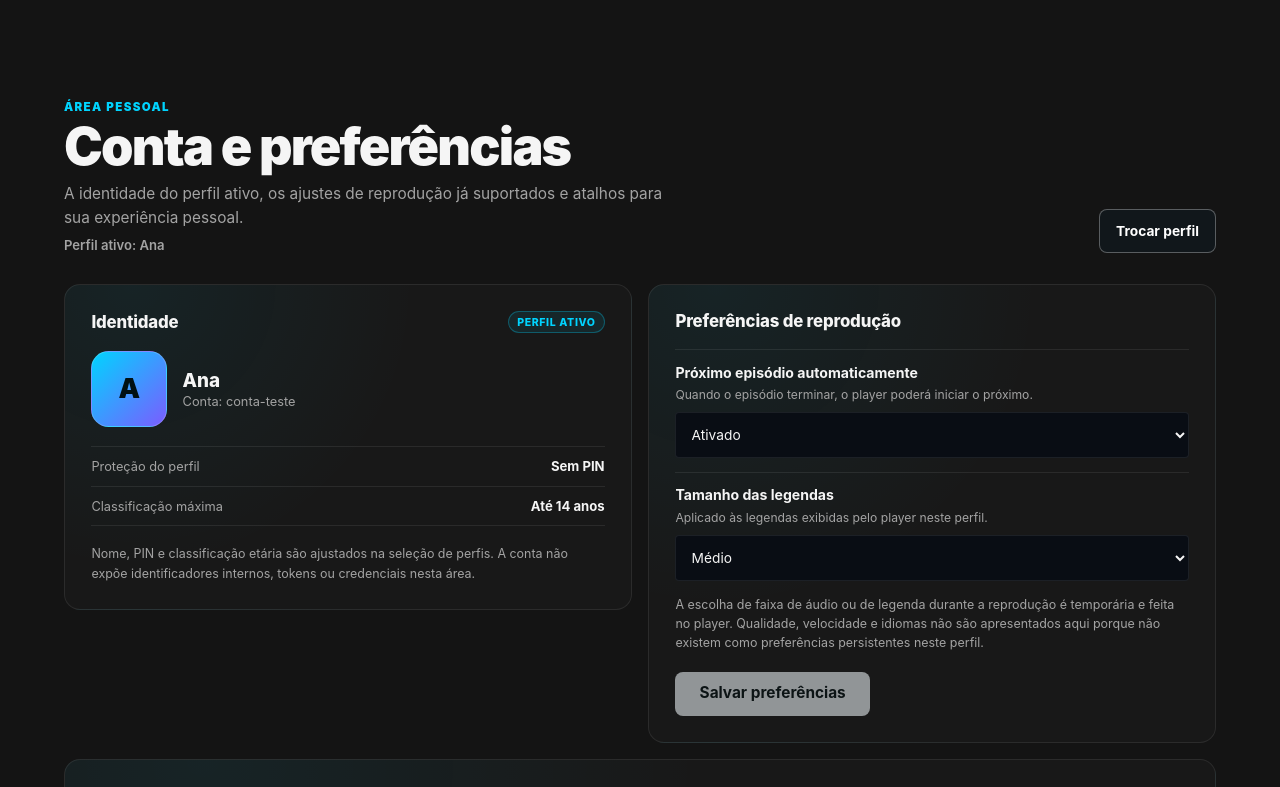
shows the real account identity and saves only the supported profile preferences
Expected: the heading "Conta e preferências" is shown, [64,115,570,178]
Expected: the text "Ana" is shown, [183,368,220,392]
Select "Desativado" in the dropdown labelled "Próximo episódio automaticamente" at (932, 435), box [675,412,1189,458]
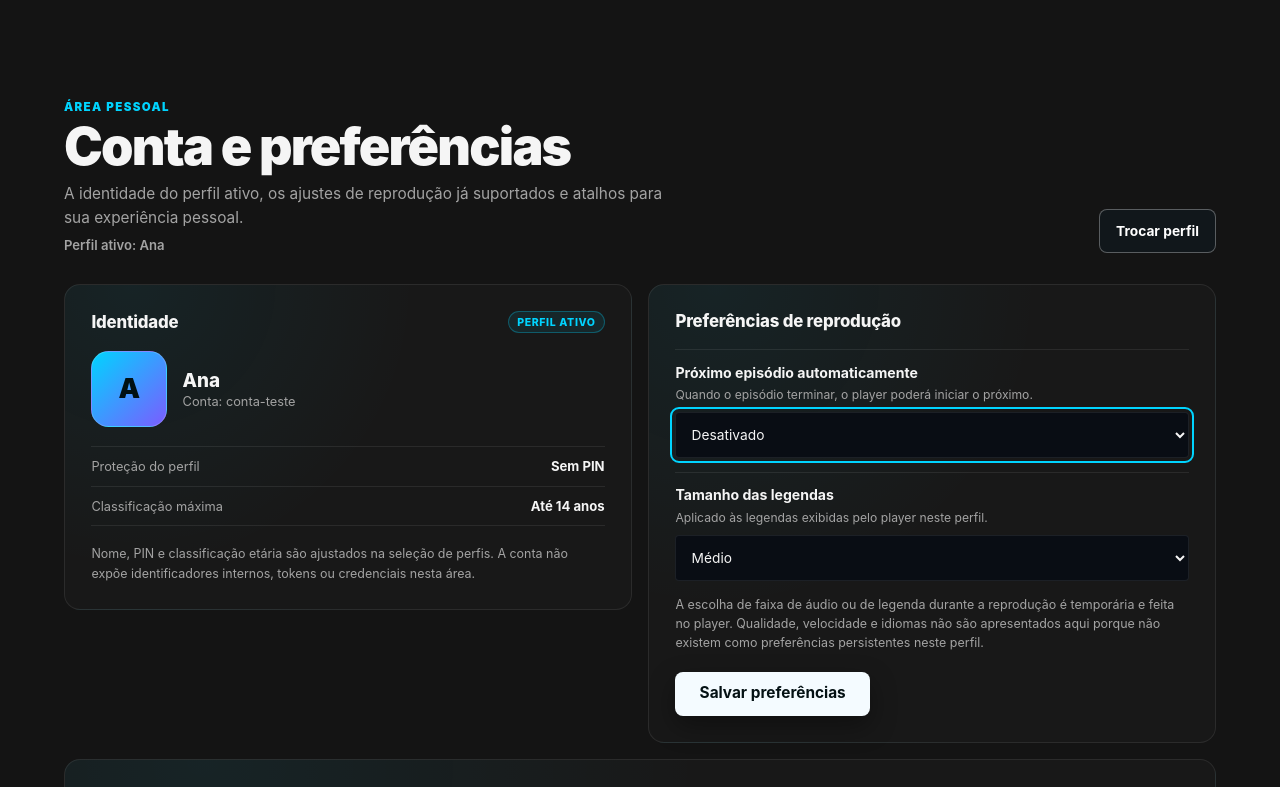
Expected: the button "Salvar preferências" is enabled
Click the button "Salvar preferências" at (773, 694), box [675,672,870,716]
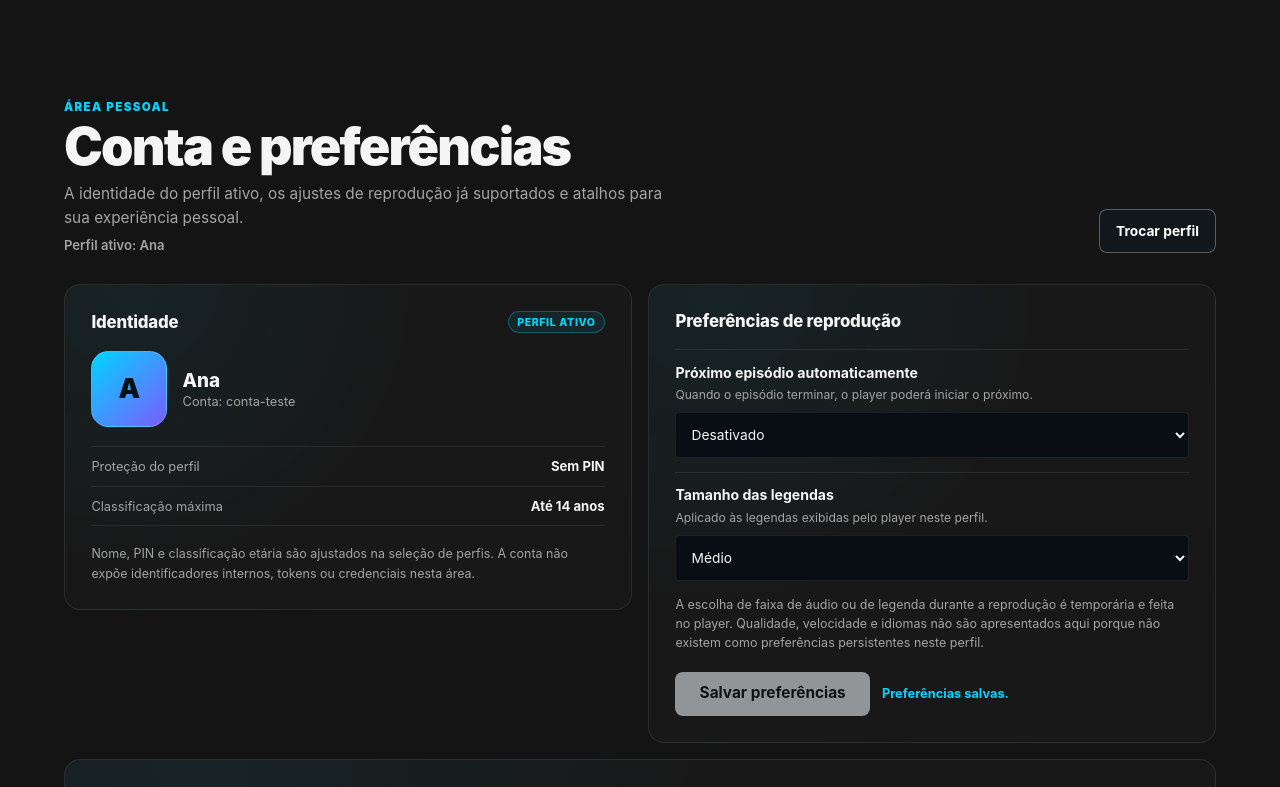
Expected: the text "Preferências salvas." is shown, [882,686,1009,701]
